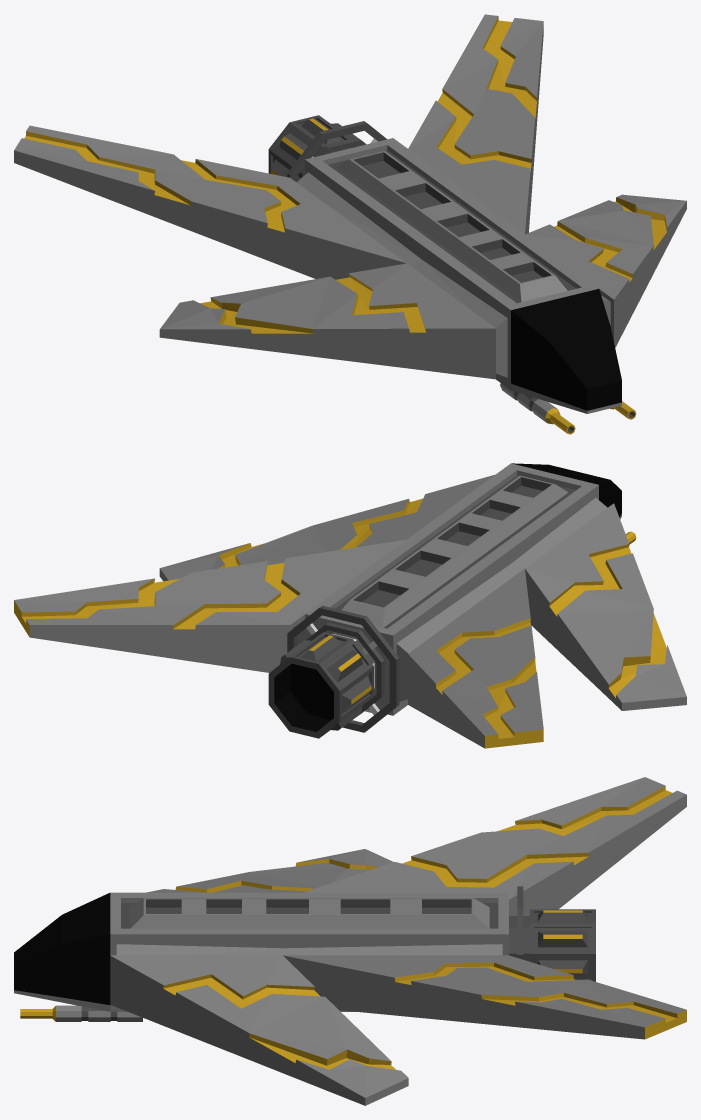
File: Spaceship7_1.fbx
3 renders of one model, top to bottom at view 1: azimuth 30°, elevation 25°; view 2: azimuth 150°, elevation 25°; view 3: azimuth 270°, elevation 25°, orthographic. The views are drawn at different scales.
Visible parts, largest first — view 1: Spaceship7_1; view 2: Spaceship7_1; view 3: Spaceship7_1.
Boxes of the visible parts, box(x1,y1,x2,y2) form: Spaceship7_1: box(14, 14, 686, 434); Spaceship7_1: box(14, 463, 686, 748); Spaceship7_1: box(14, 777, 686, 1105).
Bounding box in the file's own units: 1036 × 213 × 1177.
